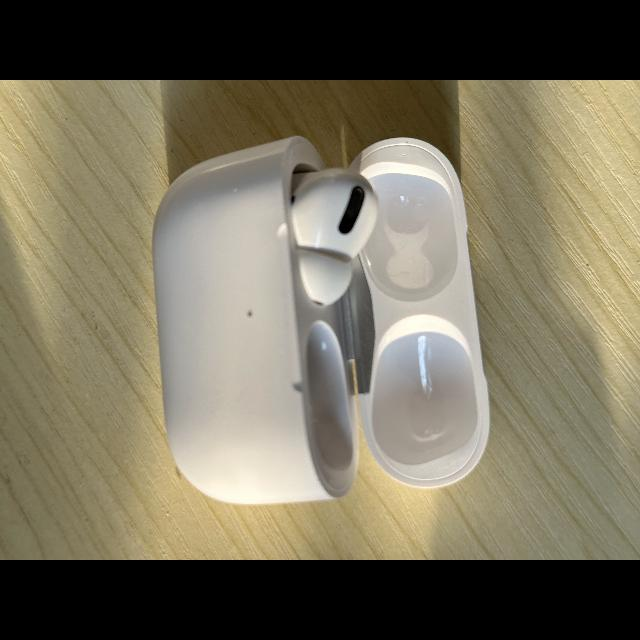AirPods Pro: (153, 136, 490, 504)
